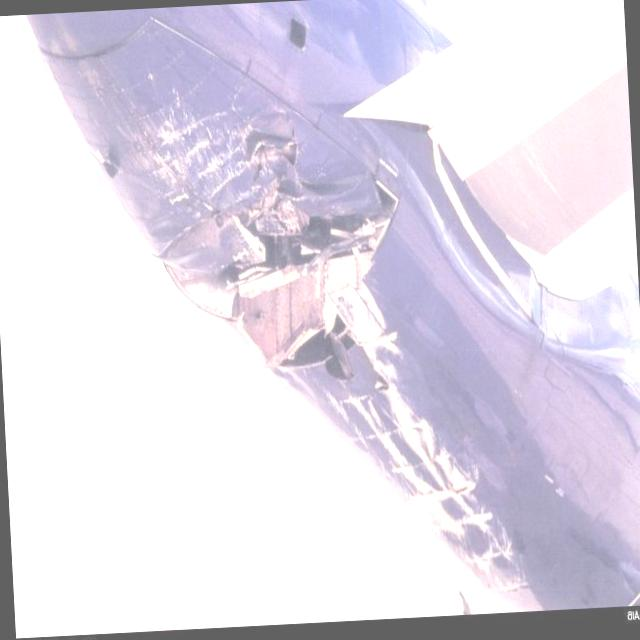crack: (207, 125, 415, 386)
